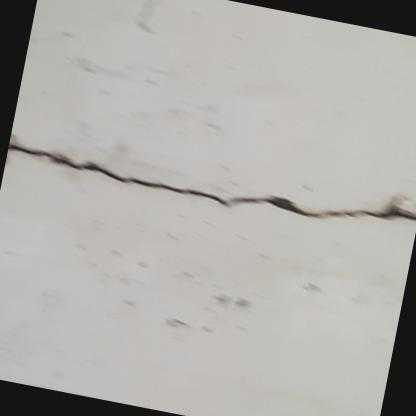crack: (7, 141, 416, 221)
